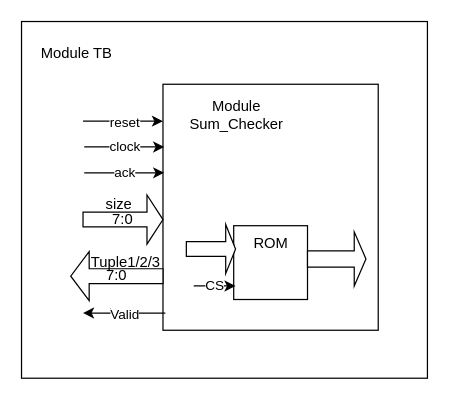
This 449x400 diagram has some shape labels left out. The shapes that lost their labels are listed below. From the top down, each one's centre as x and y in pixels, then its label:
At (x=210, y=248): "Addr".
At (x=336, y=258): "Data".
